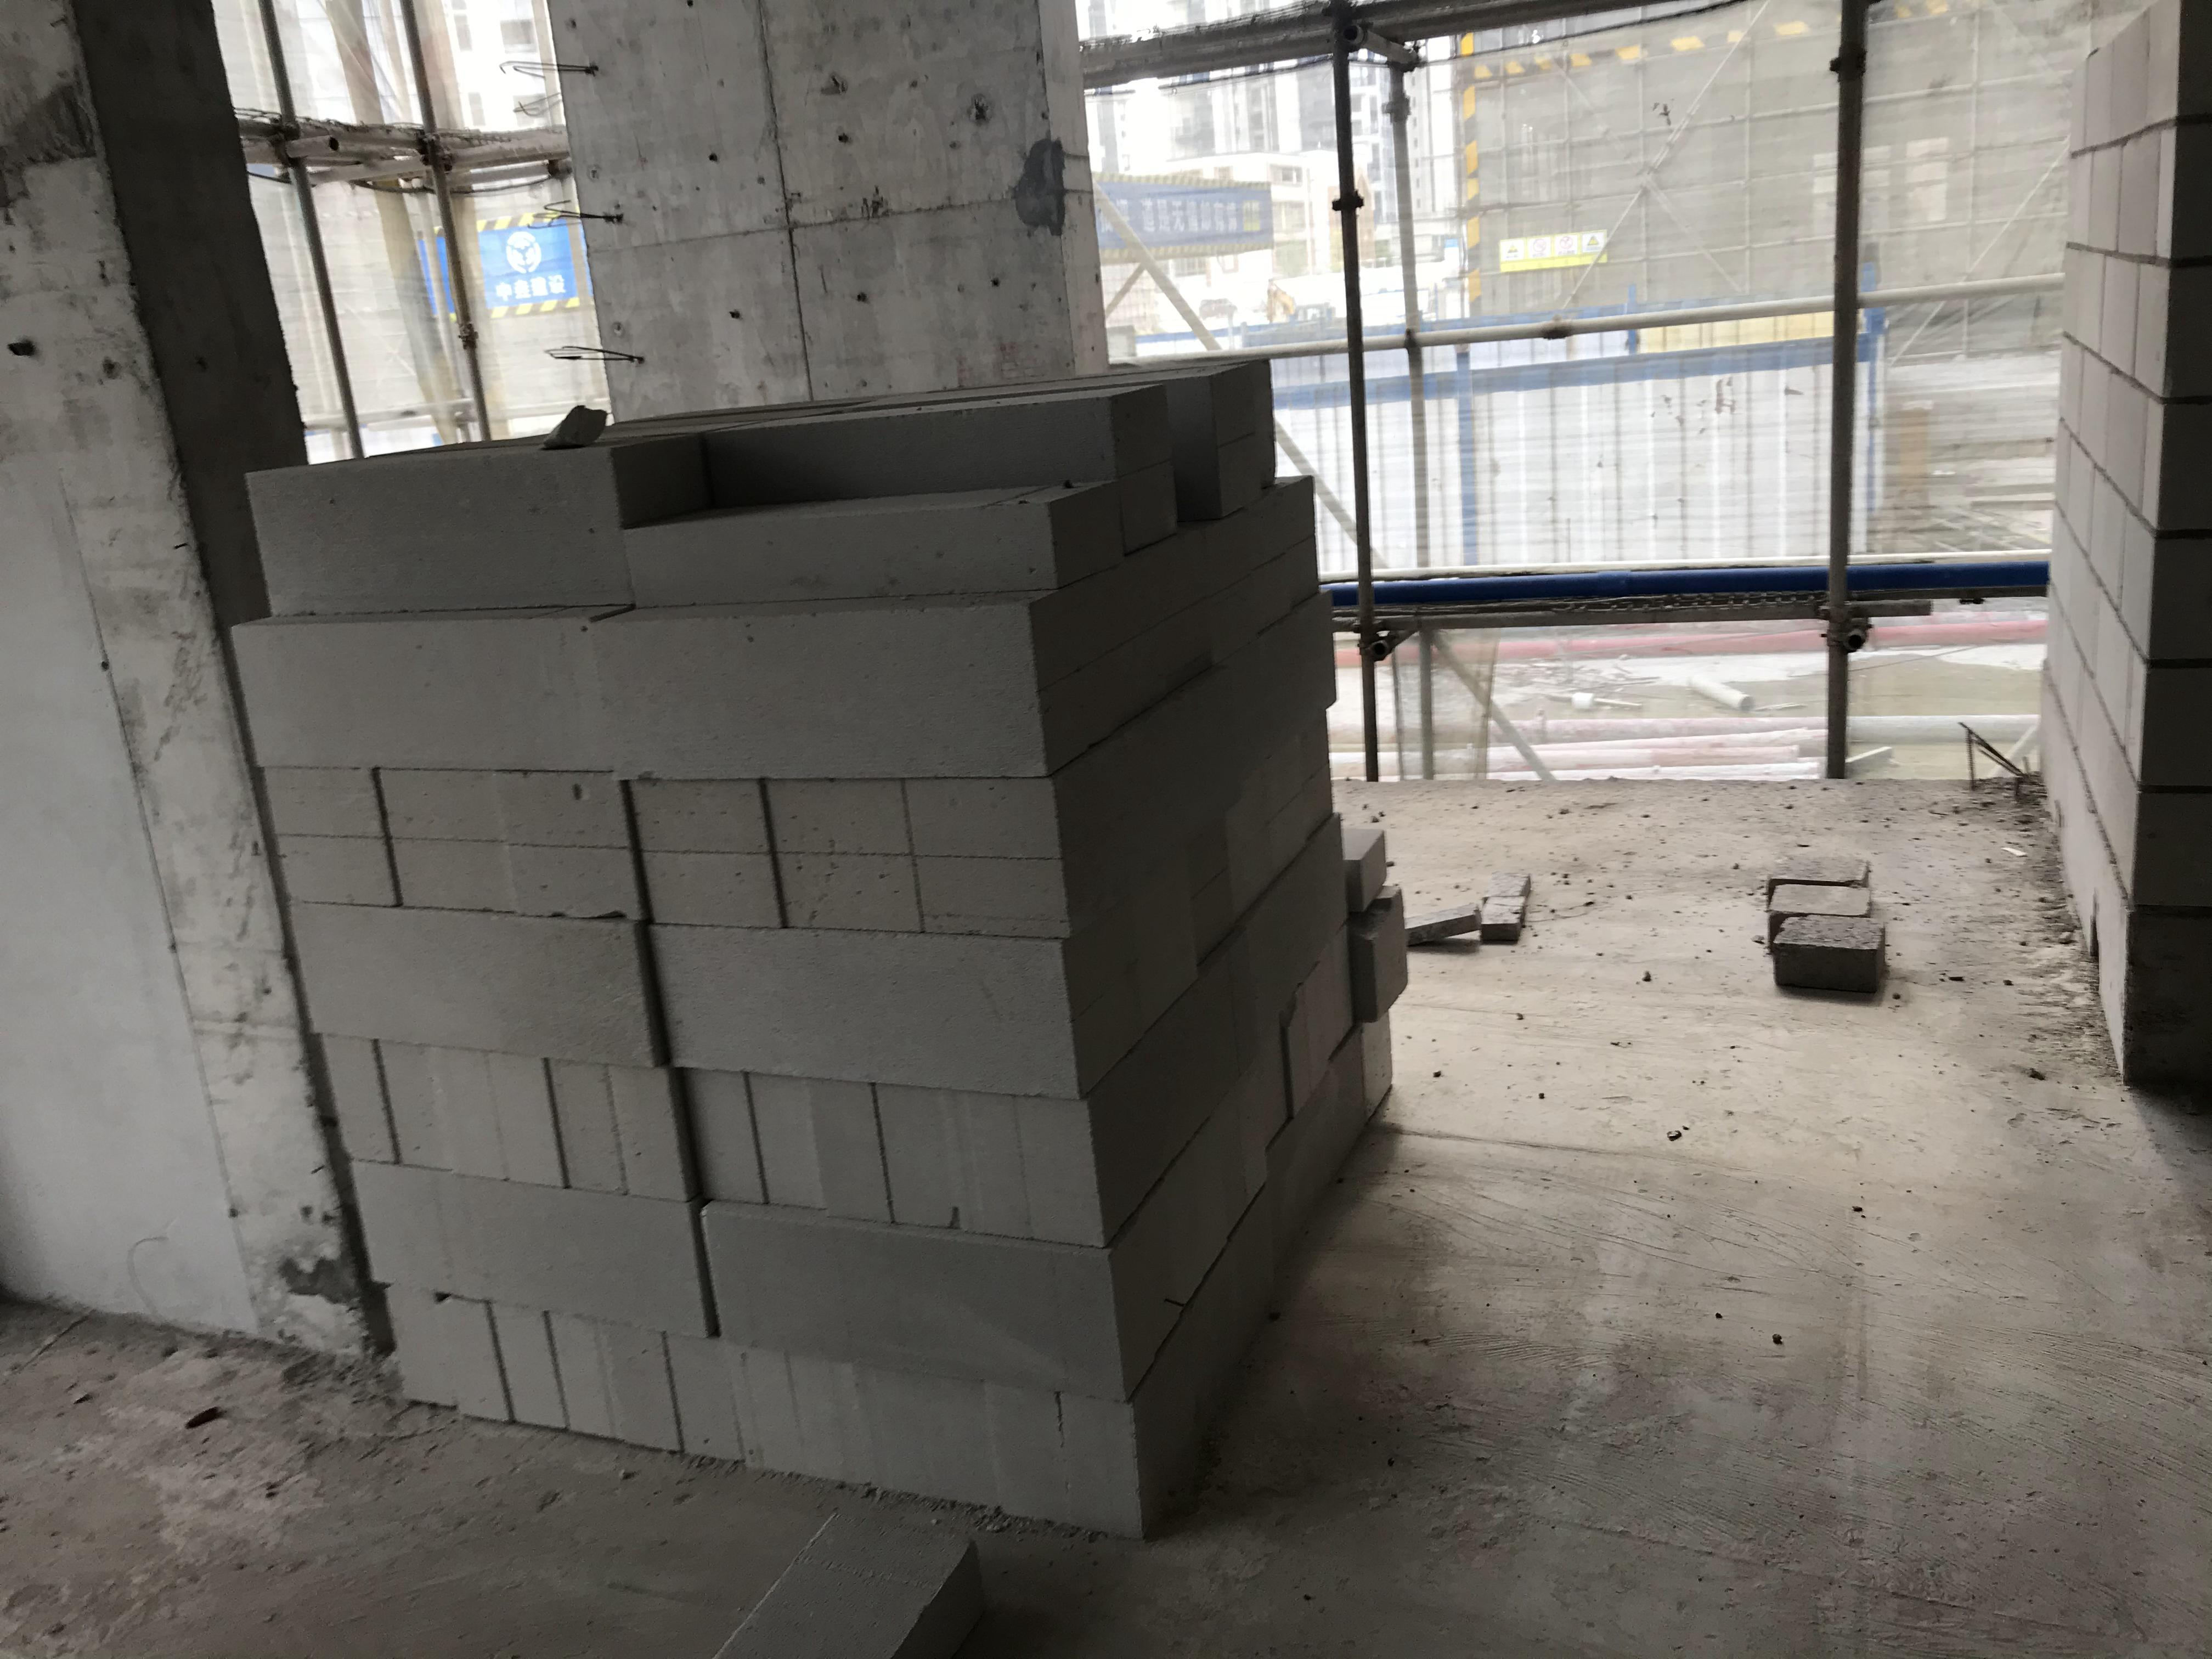brick: (230, 342, 1418, 1547)
